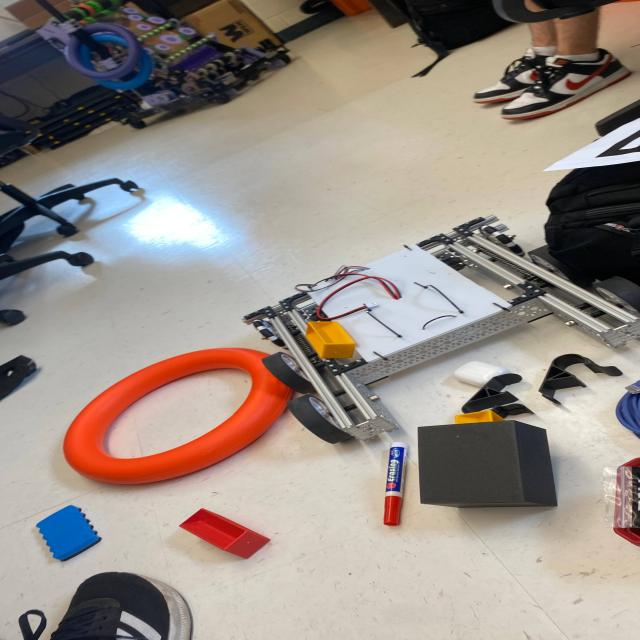red-specimen: (180, 509, 269, 559)
yellow-specimen: (306, 321, 356, 359), (455, 410, 504, 424)
